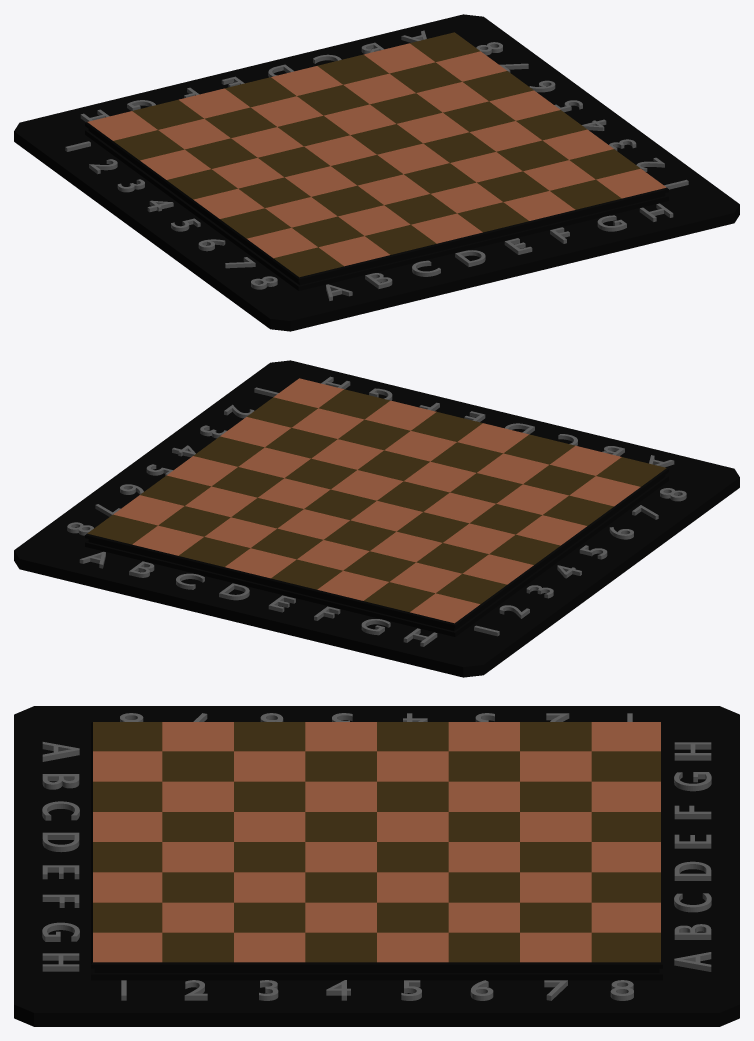
File: chessboard.glb
3 renders of one model, top to bottom at view 1: azimuth 30°, elevation 25°; view 2: azimuth 150°, elevation 25°; view 3: azimuth 270°, elevation 25°, orthographic. The views are drawn at different scales.
Visible parts, largest first — view 1: Cube.001; view 2: Cube.001; view 3: Cube.001.
Boxes of the visible parts, x1,y1,x2,y2 form: Cube.001: [14, 14, 739, 331]; Cube.001: [14, 360, 739, 677]; Cube.001: [14, 706, 739, 1026].
Size of the model in its own units: 12.69 by 0.6041 by 12.69.
Materials: 1 (1 with a texture image).
